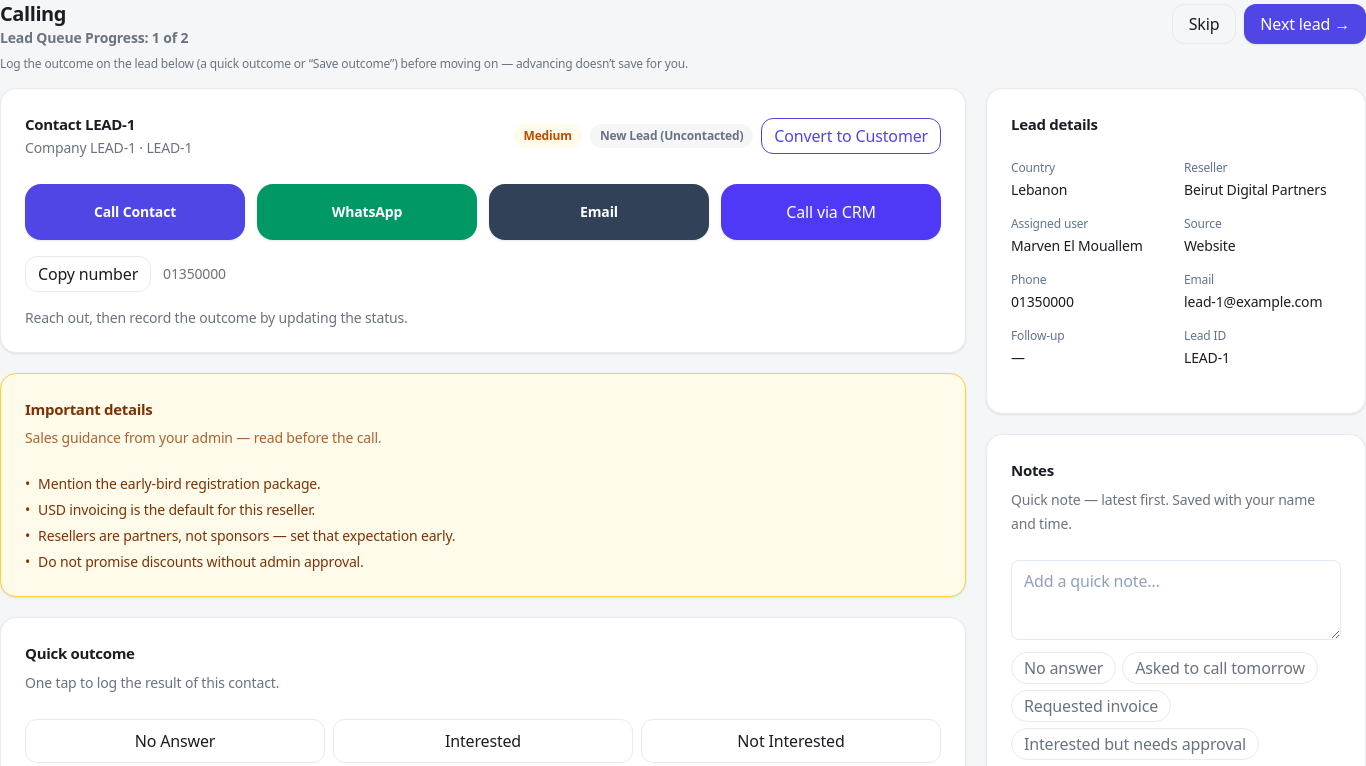
Test case: SalesCallingQueue — progress + navigation › finishing the last lead shows 'Queue complete' and hides the lead screen
Click the button "Skip" at (1204, 24), box [1172,4,1236,44]
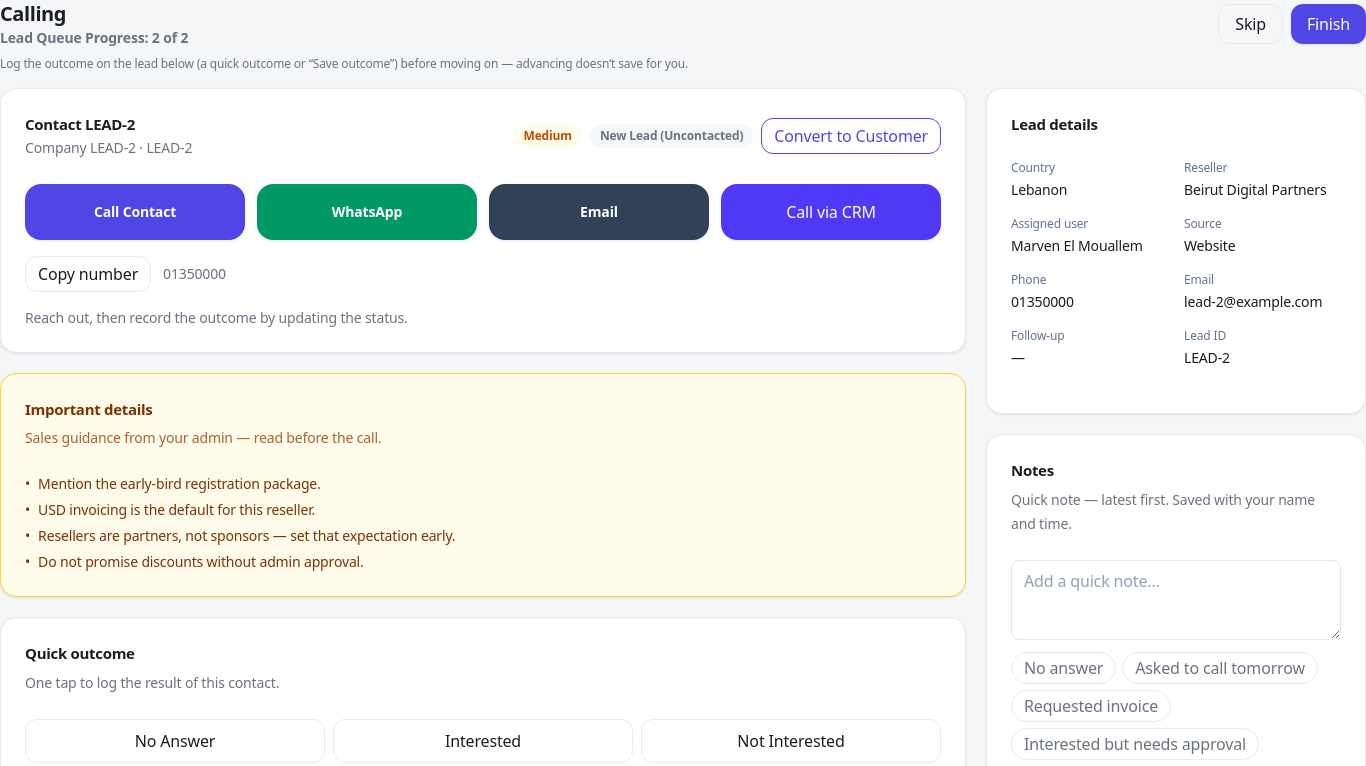
Click the button "Finish" at (1328, 24), box [1291,4,1365,44]
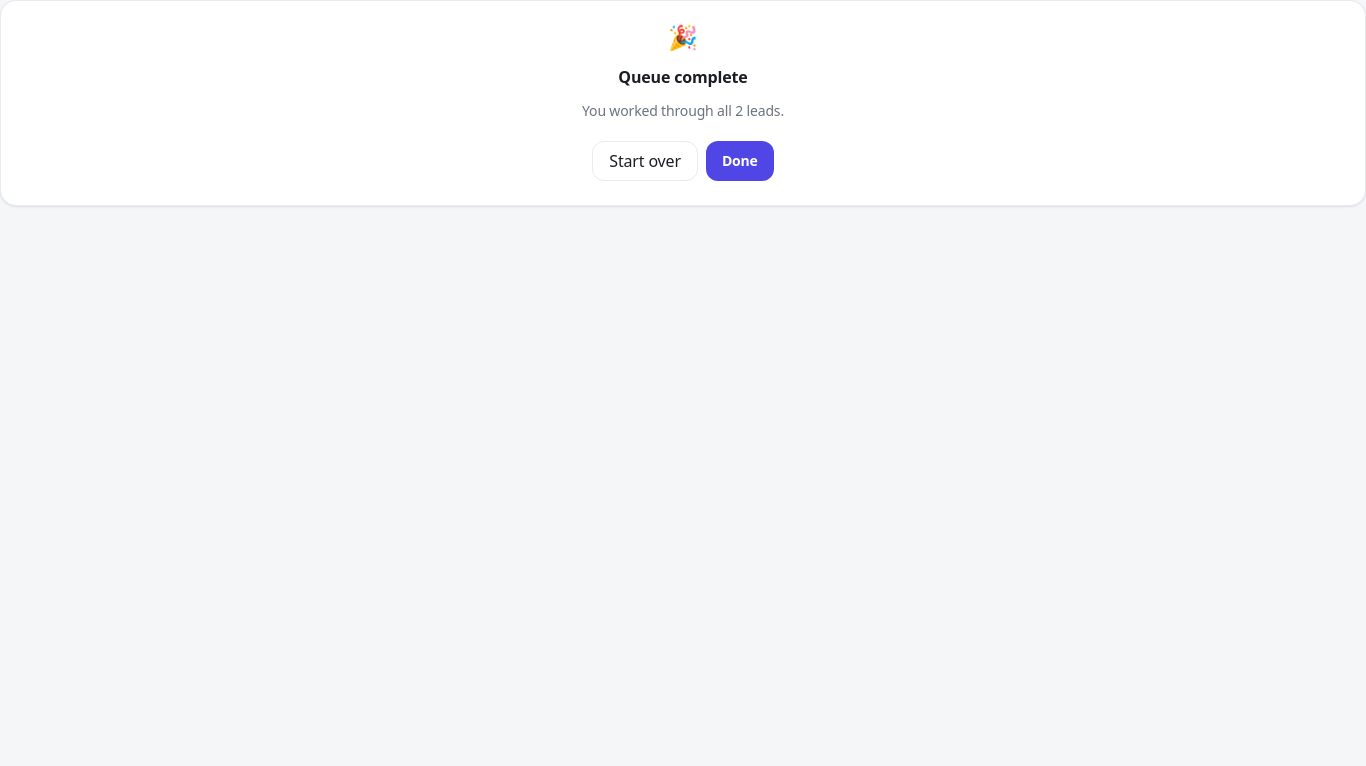
Check: the text "Queue complete" is shown, box [618,66,748,88]
